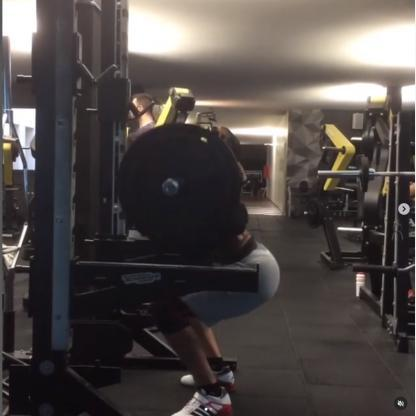barbell: (117, 125, 243, 239)
